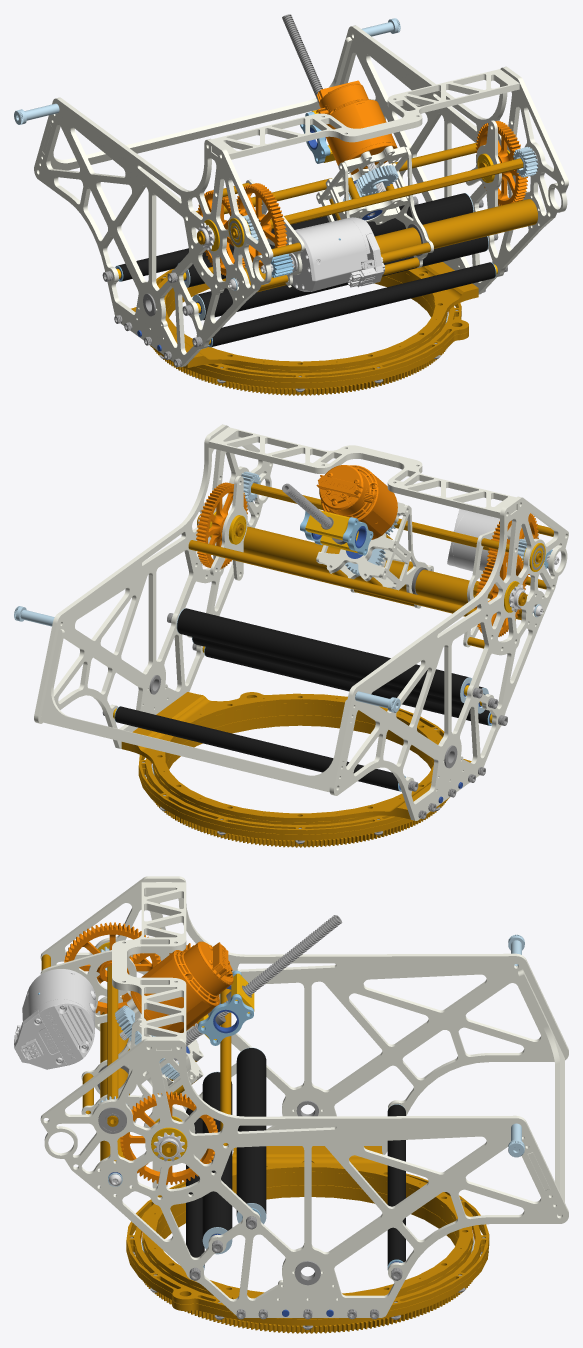
3 views of the same model, one above another, from view 1: azimuth 30°, elevation 25°; view 2: azimuth 150°, elevation 25°; view 3: azimuth 270°, elevation 25° (orthographic). The views are drawn at different scales.
Visible parts, largest first — view 1: 05_6002_SHOOTER_SIDE_PLATE_93 (×2), 05_LIMELIGHT_CROSS, 05_SMALL_PASSIVE_ROLLER_TUBE_4 (×2), KRAKEN_X60_POWERED_BY_TALON_FX__ASM, 05_6001_SHOOTER_BASE_32, 05_8071_PASSIVE_ROLLER_TUBE_7 (×2), 05_64T_AL_SPUR_GEAR_20_DP_1__4 (×3), 05_6078_PIVOT_TUBE_4, NONE-197454_3, 05_1002_TURRET_OUTER_CLAMP_13, 05_SHOOTER_SIDE_PLATE_RIBS_2, 05_2080_DEPLOY_JACK_SHAFT_8 (+14 smaller); view 2: 05_6002_SHOOTER_SIDE_PLATE_93 (×2), 05_8071_PASSIVE_ROLLER_TUBE_7 (×2), 05_6001_SHOOTER_BASE_32, 05_SMALL_PASSIVE_ROLLER_TUBE_4 (×2), 05_LIMELIGHT_CROSS, 05_SHOOTER_SIDE_PLATE_RIBS_2, 05_6078_PIVOT_TUBE_4, NONE-197454_3, 05_1002_TURRET_OUTER_CLAMP_13, 02_TURRET_230T_20DP_GEAR_1_1_4, 05_UPPER_STANFOFF_3, 05_64T_AL_SPUR_GEAR_20_DP_1__4 (×2) (+12 smaller); view 3: 05_6002_SHOOTER_SIDE_PLATE_93 (×2), KRAKEN_X60_POWERED_BY_TALON_FX__ASM, 05_LIMELIGHT_CROSS, 05_6001_SHOOTER_BASE_32, 05_8071_PASSIVE_ROLLER_TUBE_7 (×2), NONE-197454_3, 05_1002_TURRET_OUTER_CLAMP_13, 05_64T_AL_SPUR_GEAR_20_DP_1__4 (×2), 02_TURRET_230T_20DP_GEAR_1_1_4, 05_SMALL_PASSIVE_ROLLER_TUBE_4 (×2), 05_1001_TURRET_OUTER_RING_13, 05_SHOOTER_SIDE_PLATE_RIBS_2 (+12 smaller).
Part boxes in pixels (<box>): 05_6002_SHOOTER_SIDE_PLATE_93 (×2): <box>34,25,568,367</box>; 05_LIMELIGHT_CROSS: <box>212,69,519,159</box>; 05_SMALL_PASSIVE_ROLLER_TUBE_4 (×2): <box>118,205,495,346</box>; KRAKEN_X60_POWERED_BY_TALON_FX__ASM: <box>260,217,385,291</box>; 05_6001_SHOOTER_BASE_32: <box>131,262,478,370</box>; 05_8071_PASSIVE_ROLLER_TUBE_7 (×2): <box>188,193,488,320</box>; 05_64T_AL_SPUR_GEAR_20_DP_1__4 (×3): <box>197,121,527,275</box>; 05_6078_PIVOT_TUBE_4: <box>244,199,537,292</box>; NONE-197454_3: <box>316,80,397,174</box>; 05_1002_TURRET_OUTER_CLAMP_13: <box>156,268,468,382</box>; 05_SHOOTER_SIDE_PLATE_RIBS_2: <box>42,37,352,170</box>; 05_2080_DEPLOY_JACK_SHAFT_8: <box>231,158,523,237</box>; 05_6002_SHOOTER_SIDE_PLATE_93 (×2): <box>34,424,568,820</box>; 05_8071_PASSIVE_ROLLER_TUBE_7 (×2): <box>177,608,483,711</box>; 05_6001_SHOOTER_BASE_32: <box>121,692,471,822</box>; 05_SMALL_PASSIVE_ROLLER_TUBE_4 (×2): <box>115,647,489,790</box>; 05_LIMELIGHT_CROSS: <box>208,427,516,518</box>; 05_SHOOTER_SIDE_PLATE_RIBS_2: <box>40,629,351,792</box>; 05_6078_PIVOT_TUBE_4: <box>243,526,527,619</box>; NONE-197454_3: <box>316,465,397,539</box>; 05_1002_TURRET_OUTER_CLAMP_13: <box>138,692,444,834</box>; 02_TURRET_230T_20DP_GEAR_1_1_4: <box>153,719,447,847</box>; 05_UPPER_STANFOFF_3: <box>188,540,476,616</box>; 05_64T_AL_SPUR_GEAR_20_DP_1__4 (×2): <box>196,482,526,636</box>; 05_6002_SHOOTER_SIDE_PLATE_93 (×2): <box>40,876,568,1317</box>; KRAKEN_X60_POWERED_BY_TALON_FX__ASM: <box>14,968,96,1069</box>; 05_LIMELIGHT_CROSS: <box>112,882,186,1050</box>; 05_6001_SHOOTER_BASE_32: <box>143,1146,471,1315</box>; 05_8071_PASSIVE_ROLLER_TUBE_7 (×2): <box>202,1048,266,1238</box>; NONE-197454_3: <box>130,941,233,1032</box>; 05_1002_TURRET_OUTER_CLAMP_13: <box>126,1173,489,1319</box>; 05_64T_AL_SPUR_GEAR_20_DP_1__4 (×2): <box>64,922,217,1184</box>; 02_TURRET_230T_20DP_GEAR_1_1_4: <box>142,1190,472,1333</box>; 05_SMALL_PASSIVE_ROLLER_TUBE_4 (×2): <box>186,1104,405,1267</box>; 05_1001_TURRET_OUTER_RING_13: <box>126,1207,489,1325</box>; 05_SHOOTER_SIDE_PLATE_RIBS_2: <box>518,969,564,1215</box>.
Bounding box in the file's own units: 0.4223 × 0.3269 × 0.4757.
